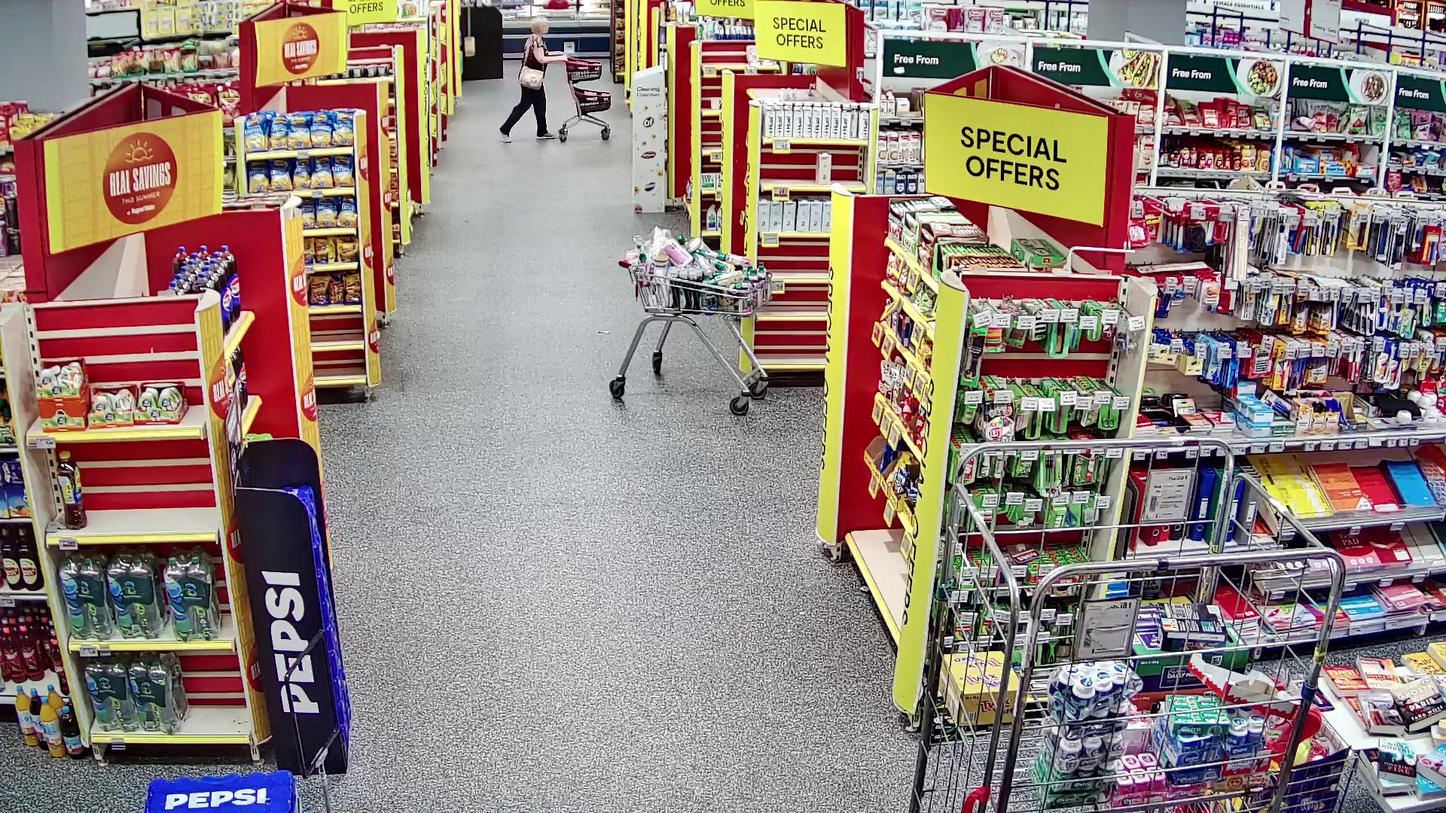backpack-or-handbag: (518, 65, 544, 91)
empty-trolly: (559, 56, 612, 141)
person: (499, 18, 567, 142)
person-with-basket-trolly-and-backpack-handbag: (499, 18, 612, 143)
